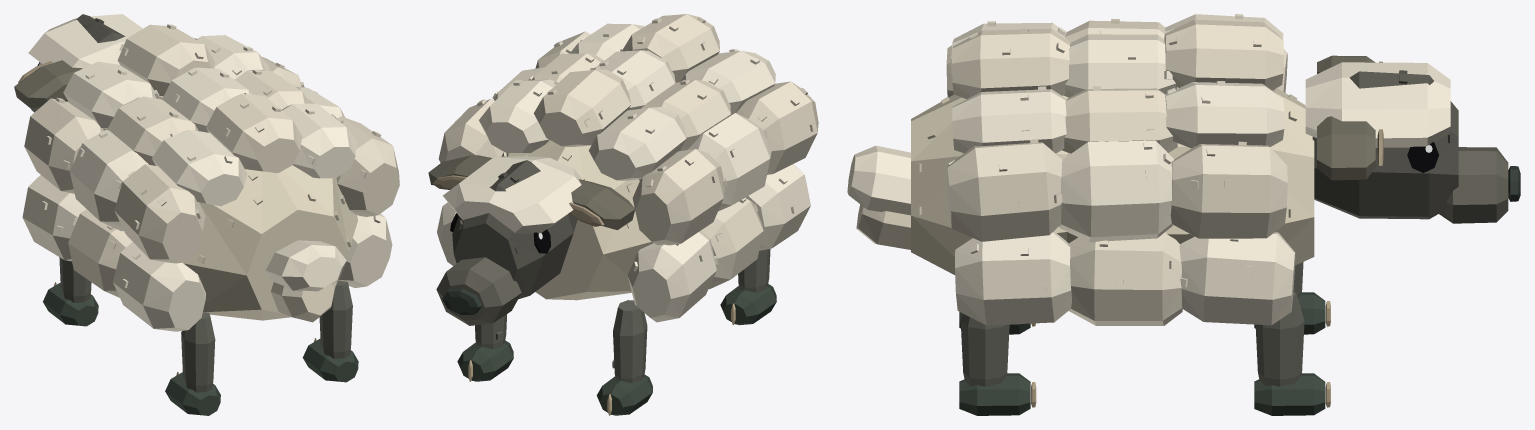
File: Sheep.fbx
3 renders of one model, left to right at view 1: azimuth 30°, elevation 25°; view 2: azimuth 150°, elevation 25°; view 3: azimuth 270°, elevation 25°, orthographic. The views are drawn at different scales.
Parts seen in each view (by area): view 1: Import3D_Core, Import3D_Tail, Import3D_WoolTop10, Import3D_LegBL, Import3D_WoolTop00, Import3D_WoolCap, Import3D_LegBR, Import3D_LegFL, Import3D_EarL, Import3D_WoolTop20, Import3D_Head; view 2: Import3D_Core, Import3D_Head, Import3D_WoolCap, Import3D_WoolTop10, Import3D_WoolTop00, Import3D_LegFL, Import3D_WoolTop20, Import3D_Muzzle, Import3D_LegBL, Import3D_LegFR, Import3D_EarL, Import3D_EarR; view 3: Import3D_Core, Import3D_Head, Import3D_WoolCap, Import3D_WoolTop10, Import3D_WoolTop20, Import3D_LegFR, Import3D_LegBR, Import3D_Tail, Import3D_Muzzle, Import3D_EarR, Import3D_LegFL, Import3D_WoolTop00 (+1 smaller).
Boxes of the visible parts, x1=… form: Import3D_Core: x1=22, y1=56, x2=399, y2=331; Import3D_Tail: x1=266, y1=240, x2=346, y2=322; Import3D_WoolTop10: x1=117, y1=24, x2=214, y2=96; Import3D_LegBL: x1=165, y1=312, x2=220, y2=415; Import3D_WoolTop00: x1=63, y1=61, x2=159, y2=128; Import3D_WoolCap: x1=28, y1=14, x2=142, y2=68; Import3D_LegBR: x1=302, y1=280, x2=358, y2=382; Import3D_LegFL: x1=43, y1=257, x2=98, y2=326; Import3D_EarL: x1=14, y1=60, x2=82, y2=108; Import3D_WoolTop20: x1=196, y1=35, x2=269, y2=79; Import3D_Head: x1=65, y1=14, x2=125, y2=101; Import3D_Core: x1=437, y1=14, x2=818, y2=322; Import3D_Head: x1=442, y1=160, x2=577, y2=314; Import3D_WoolCap: x1=443, y1=156, x2=582, y2=234; Import3D_WoolTop10: x1=533, y1=67, x2=631, y2=146; Import3D_WoolTop00: x1=588, y1=107, x2=686, y2=180; Import3D_LegFL: x1=596, y1=300, x2=652, y2=415; Import3D_WoolTop20: x1=479, y1=79, x2=558, y2=153; Import3D_Muzzle: x1=436, y1=257, x2=521, y2=325; Import3D_LegBL: x1=720, y1=249, x2=776, y2=325; Import3D_LegFR: x1=457, y1=314, x2=513, y2=381; Import3D_EarL: x1=568, y1=179, x2=635, y2=230; Import3D_EarR: x1=428, y1=155, x2=491, y2=189; Import3D_Core: x1=911, y1=18, x2=1314, y2=325; Import3D_Head: x1=1312, y1=70, x2=1520, y2=219; Import3D_WoolCap: x1=1305, y1=62, x2=1450, y2=147; Import3D_WoolTop10: x1=1164, y1=19, x2=1283, y2=90; Import3D_WoolTop20: x1=1165, y1=81, x2=1284, y2=148; Import3D_LegFR: x1=1254, y1=291, x2=1330, y2=415; Import3D_LegBR: x1=959, y1=314, x2=1036, y2=415; Import3D_Tail: x1=847, y1=145, x2=910, y2=249; Import3D_Muzzle: x1=1438, y1=147, x2=1508, y2=223; Import3D_EarR: x1=1317, y1=116, x2=1383, y2=180; Import3D_LegFL: x1=1254, y1=262, x2=1330, y2=334; Import3D_WoolTop00: x1=1165, y1=14, x2=1283, y2=39.
Bounding box in the file's own units: 148 × 157 × 274.
Materials: 1 (1 with a texture image).
